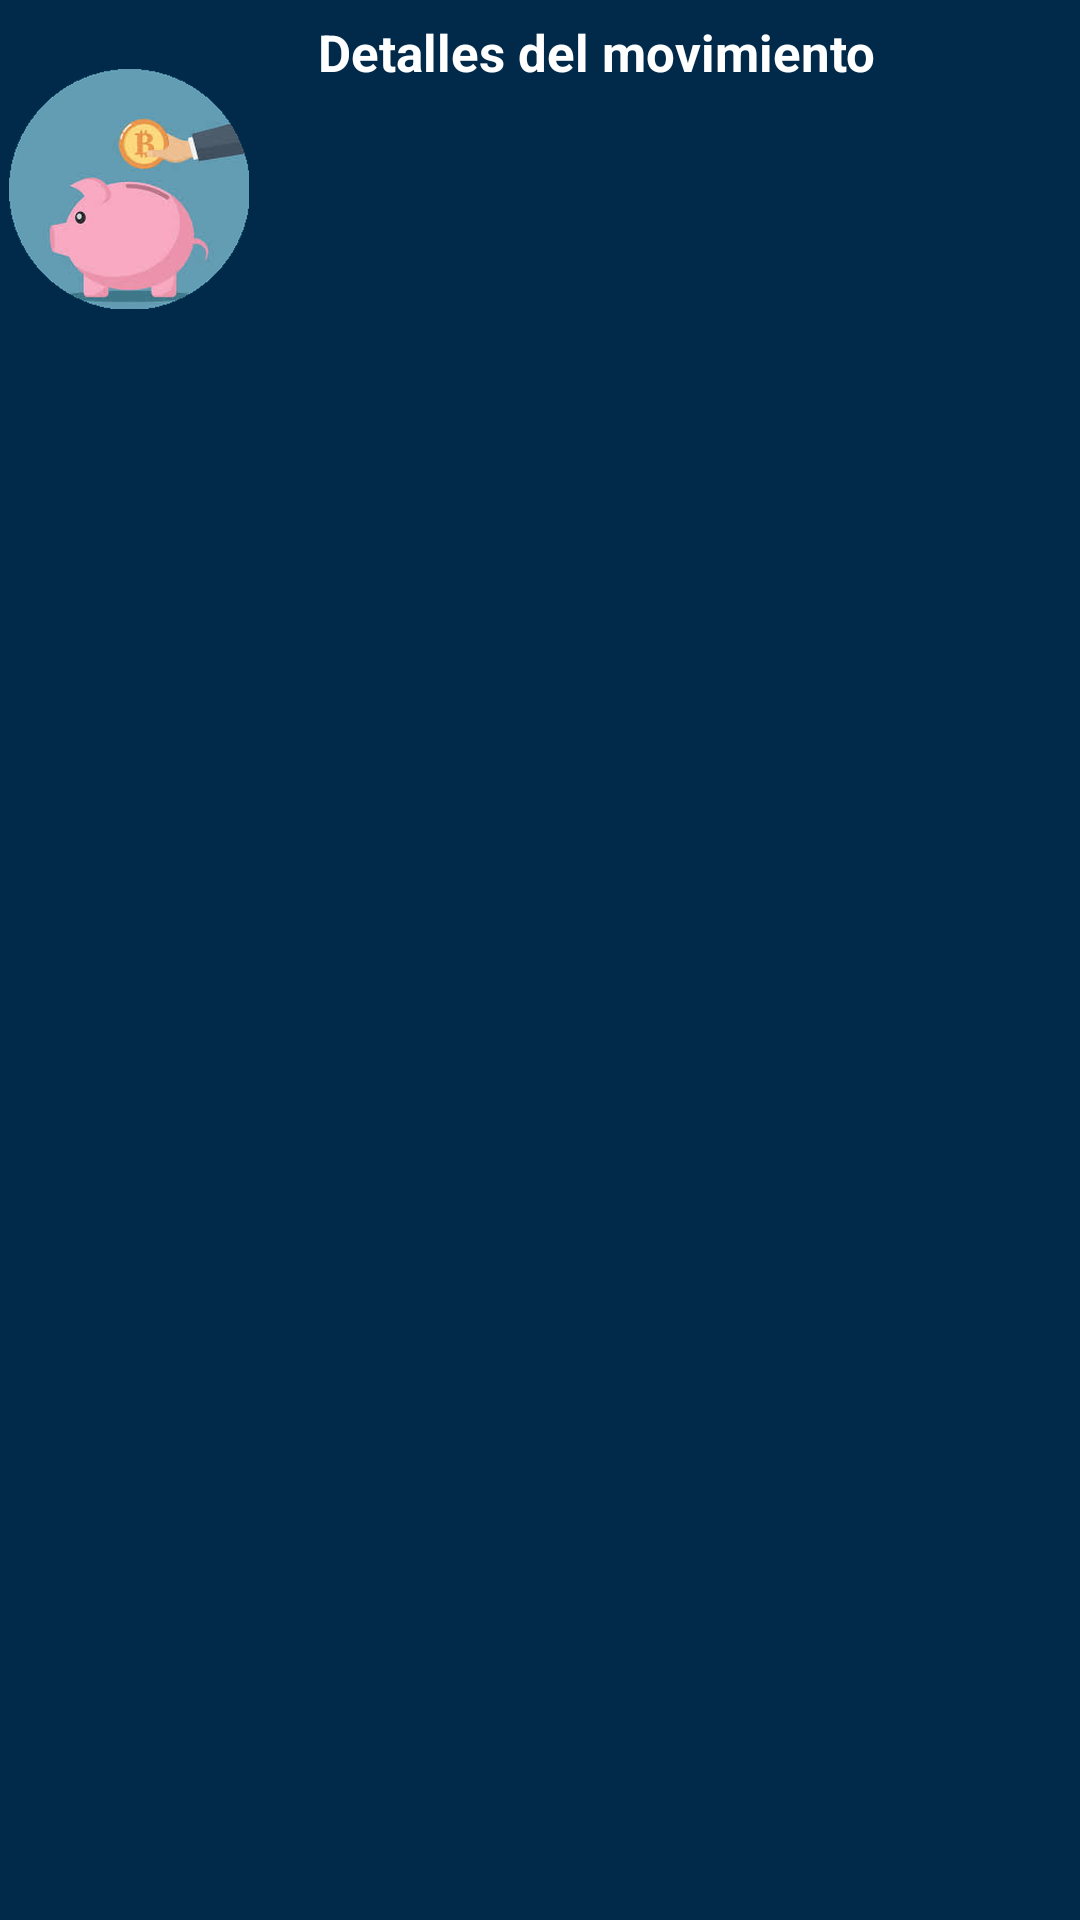

Icon bounding boxes for this 1080*1920 phone screenshot, format (x1,y1,x2,y2):
bitcoinpig: (9,69,249,309)
